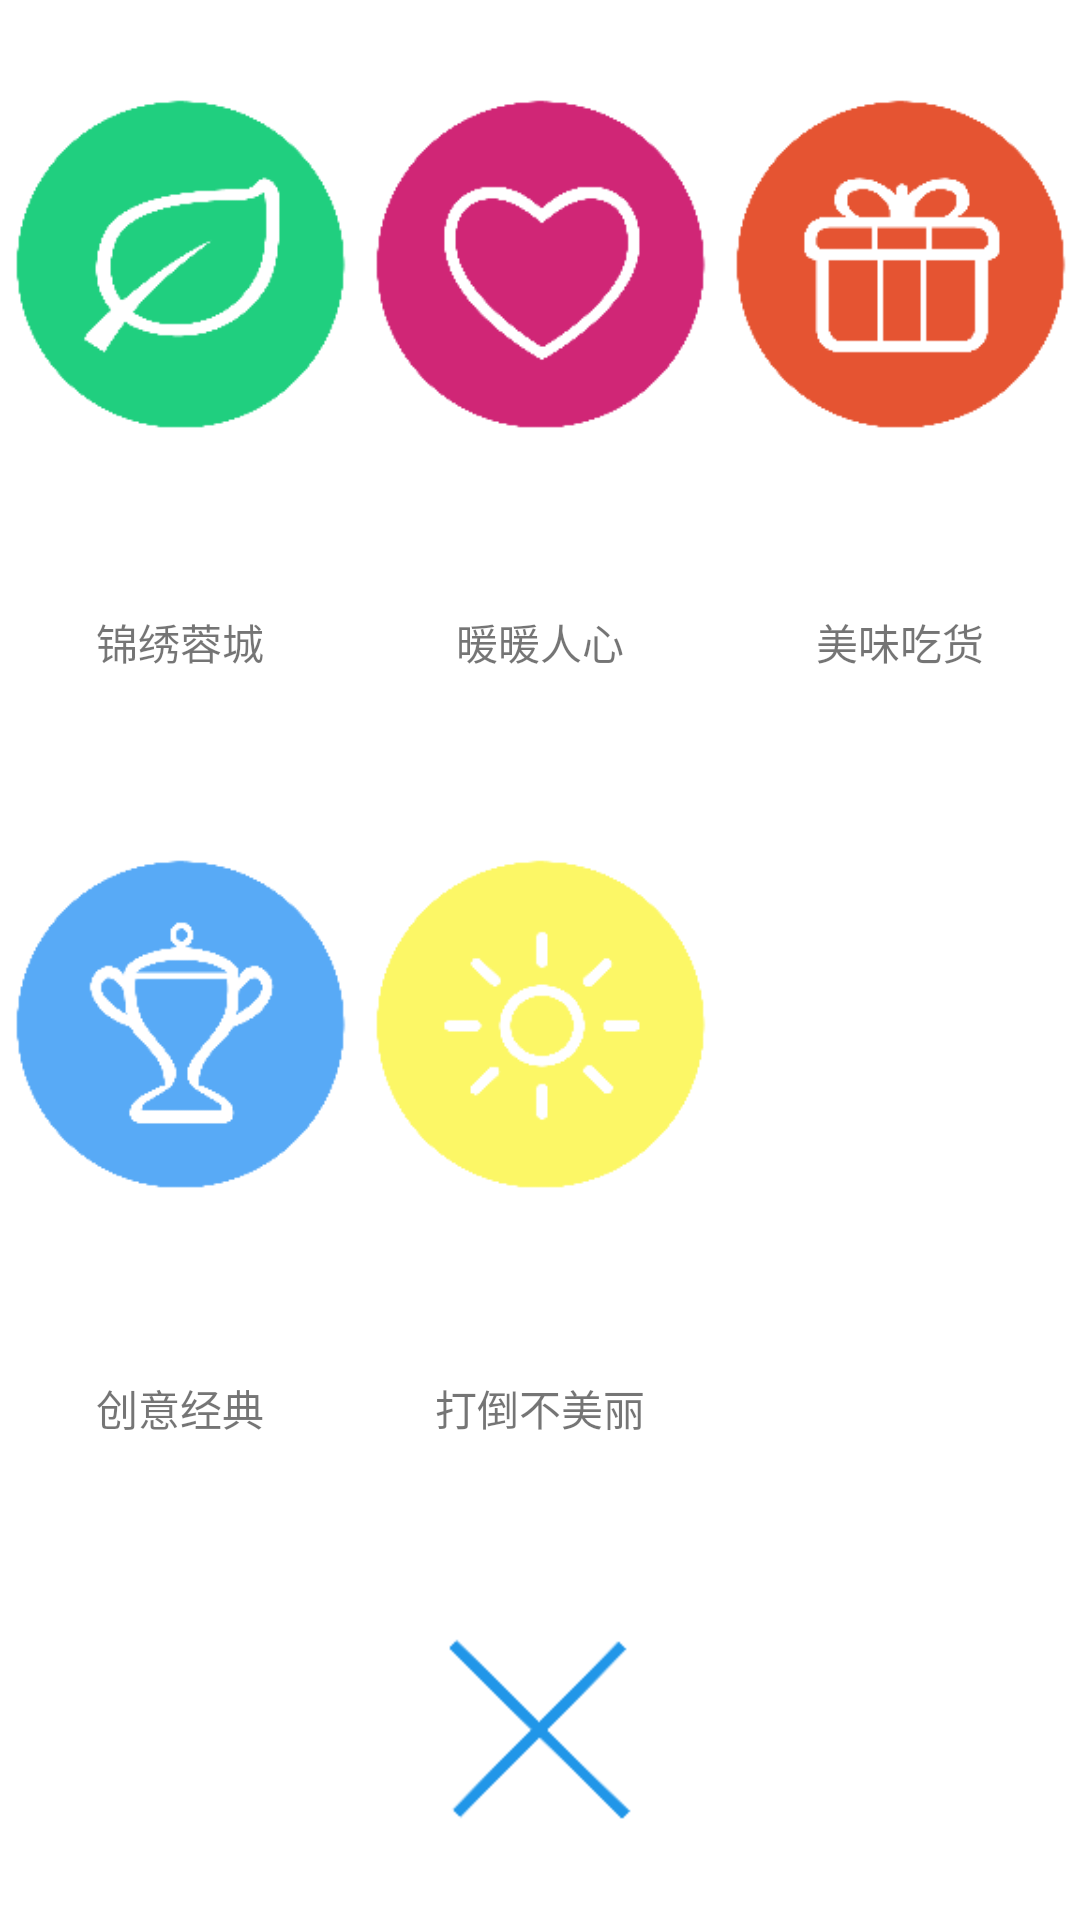

Point at icon controls on the screen. Image size 1080×1920, points as point (x, y).
close popup: point (540, 1729)
